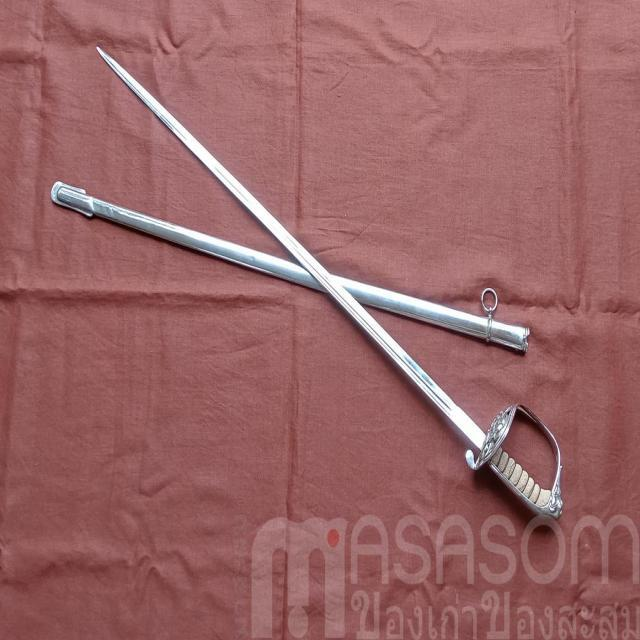long sword: (94, 36, 564, 522)
